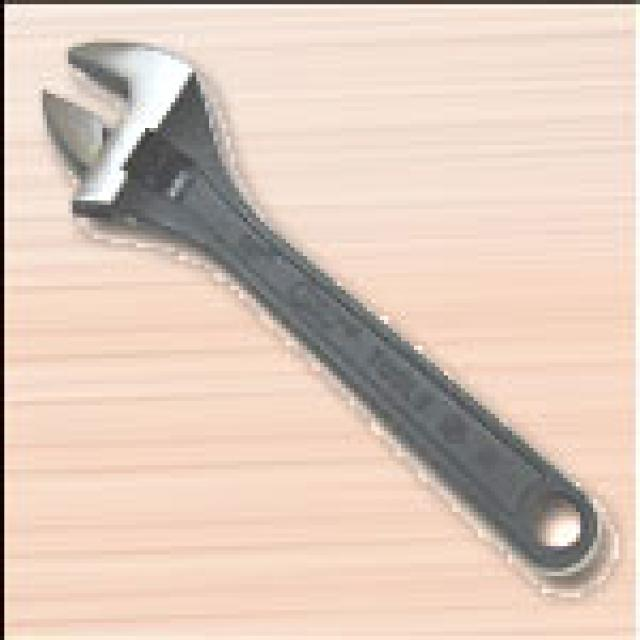wrench: (22, 22, 631, 598)
